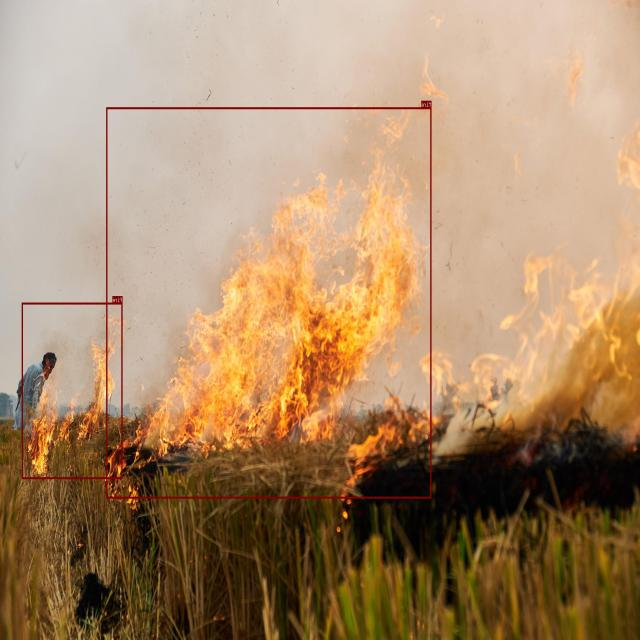fire: (106, 107, 432, 498), (22, 302, 123, 479)
